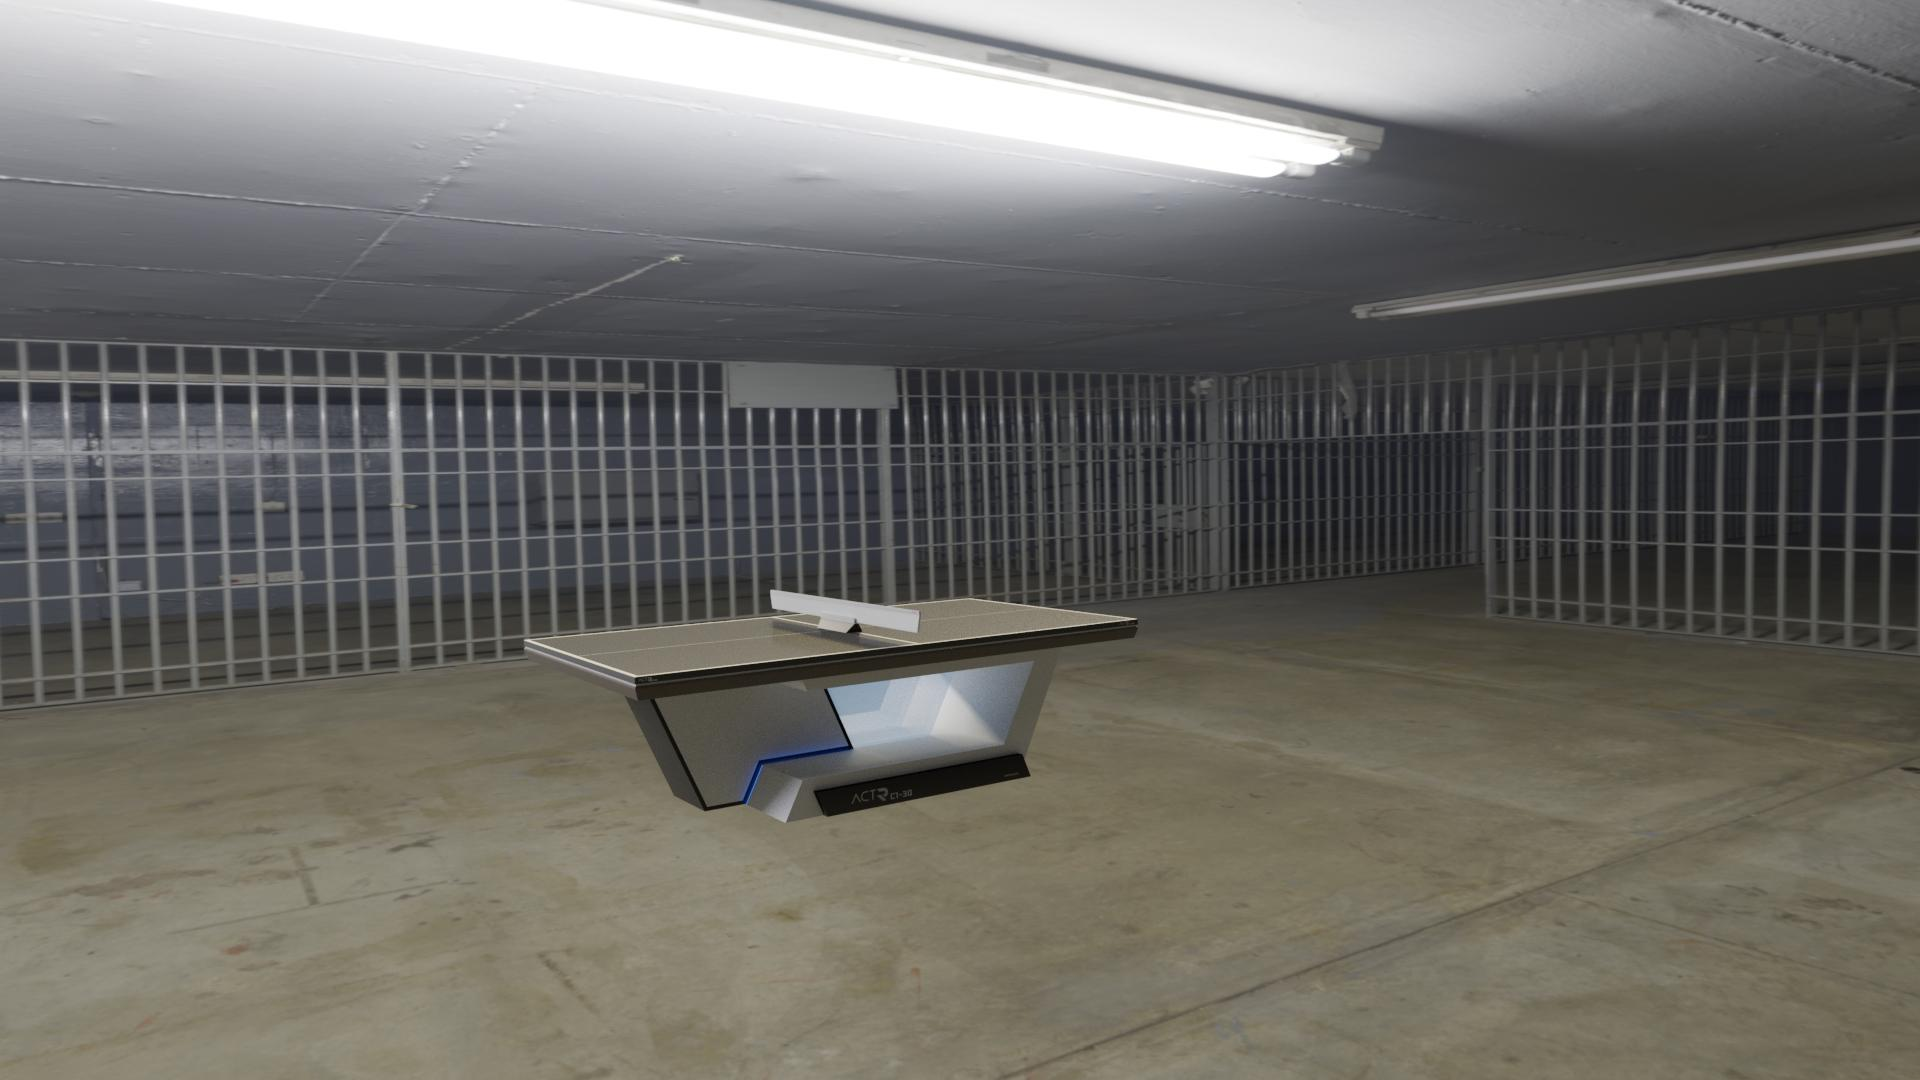table: (529, 599, 1133, 676)
